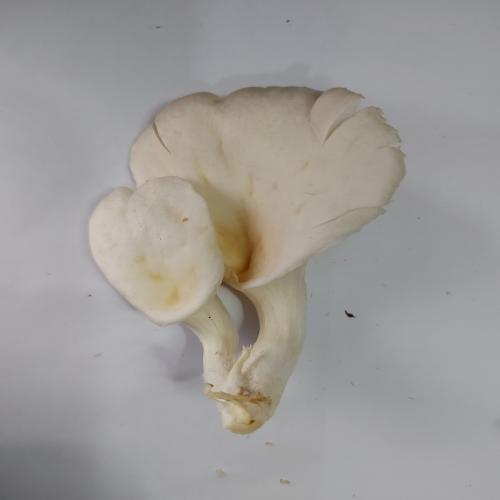Oyster Mushroom: (87, 84, 407, 435)
